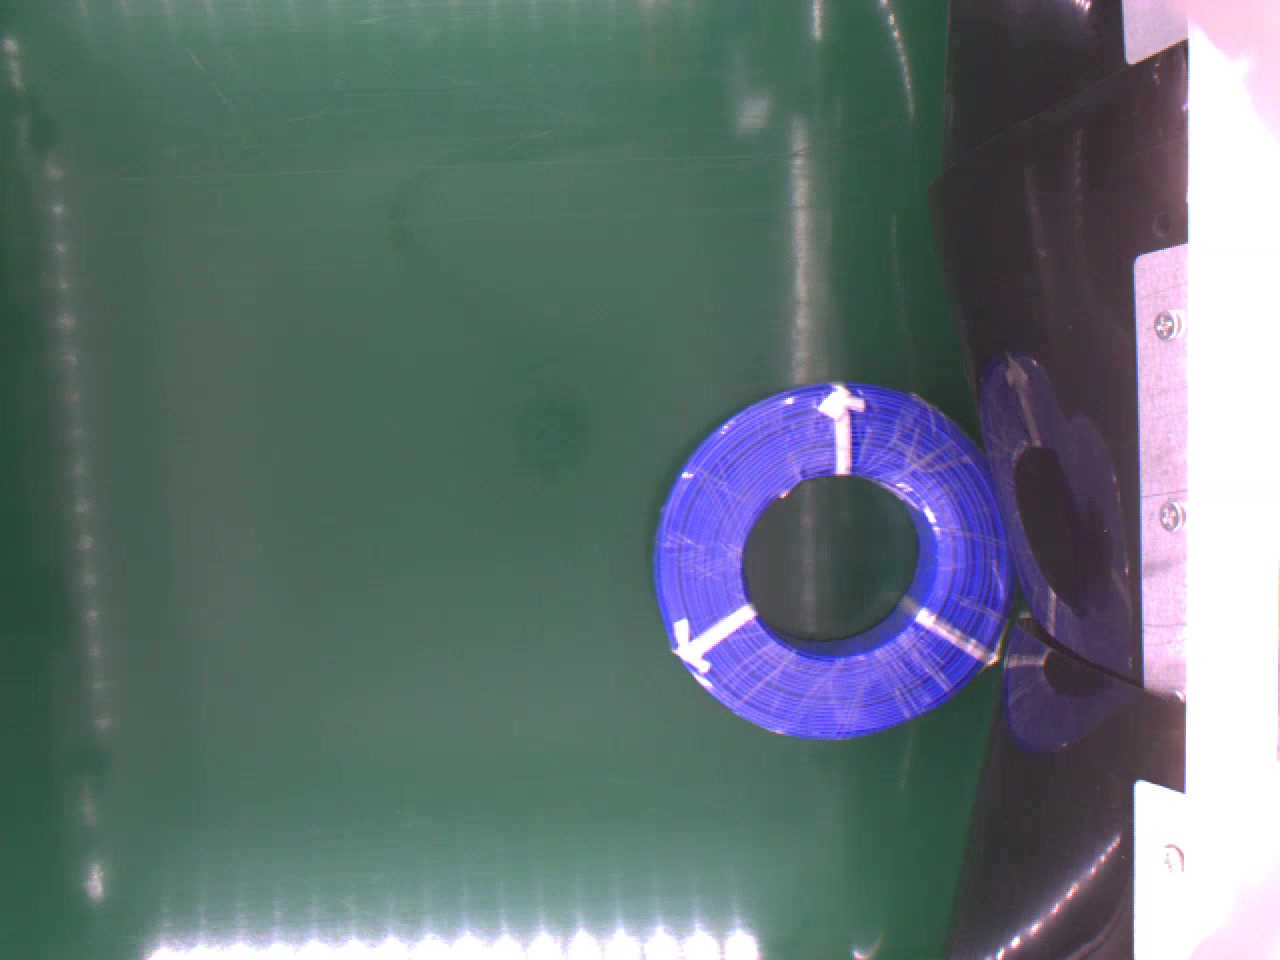blue: (646, 378, 1016, 739)
